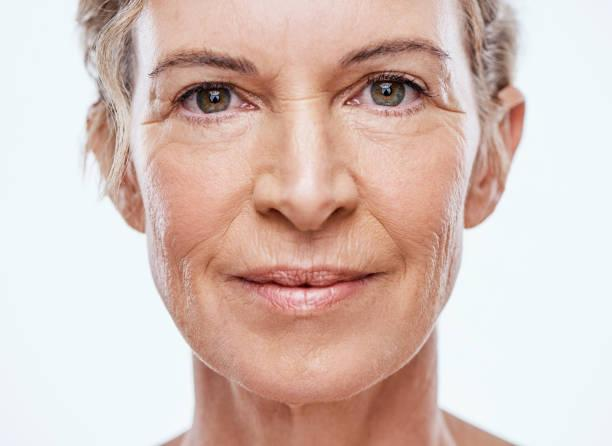Dry-Skin: (337, 122, 487, 293), (143, 120, 241, 294)
